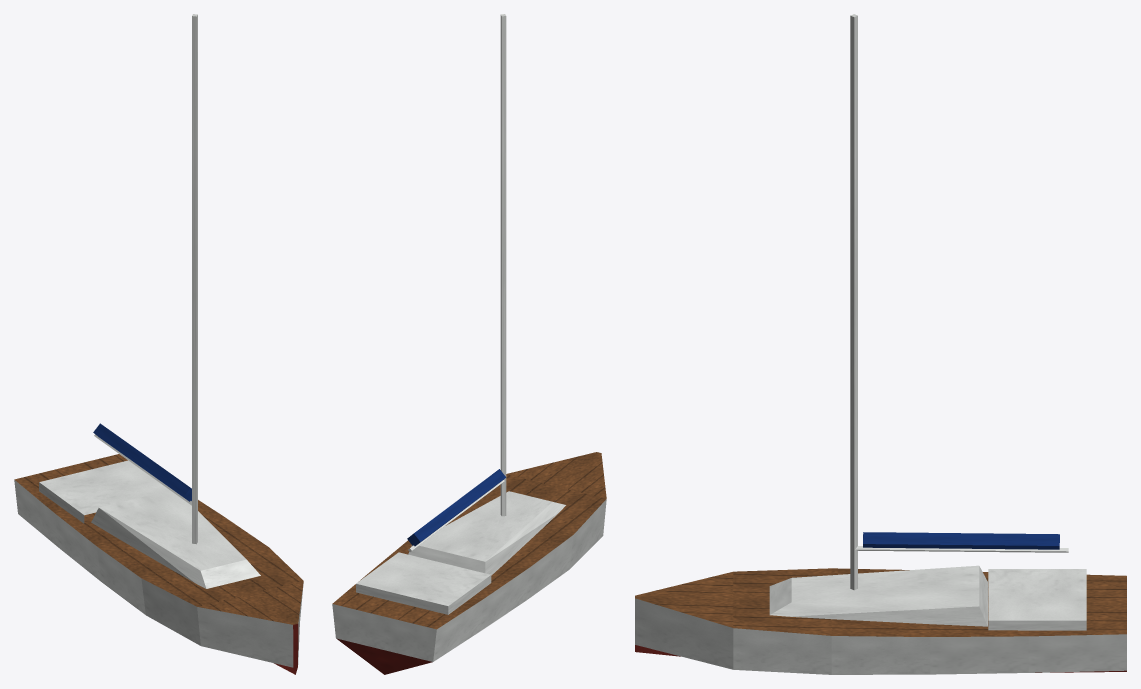
File: SM_Mirabello_YachtB_LOD2.fbx
The picture shows the model from 3 angles, left to right: view 1: azimuth 30°, elevation 25°; view 2: azimuth 150°, elevation 25°; view 3: azimuth 270°, elevation 25°; orthographic projection. The views are drawn at different scales.
Parts seen in each view (by area): view 1: SM_Mirabello_YachtB_LOD2; view 2: SM_Mirabello_YachtB_LOD2; view 3: SM_Mirabello_YachtB_LOD2.
Part boxes in pixels (<box>): SM_Mirabello_YachtB_LOD2: <box>14,14,303,674</box>; SM_Mirabello_YachtB_LOD2: <box>332,14,606,674</box>; SM_Mirabello_YachtB_LOD2: <box>635,14,1126,674</box>.
Bounding box in the file's own units: 358 × 1100 × 1620.
Materials: 1 (1 with a texture image).
